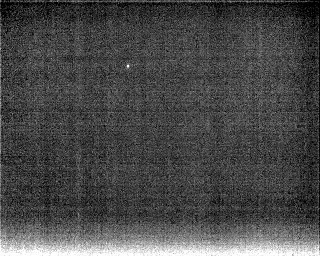BIRD: (124, 62, 132, 71)
